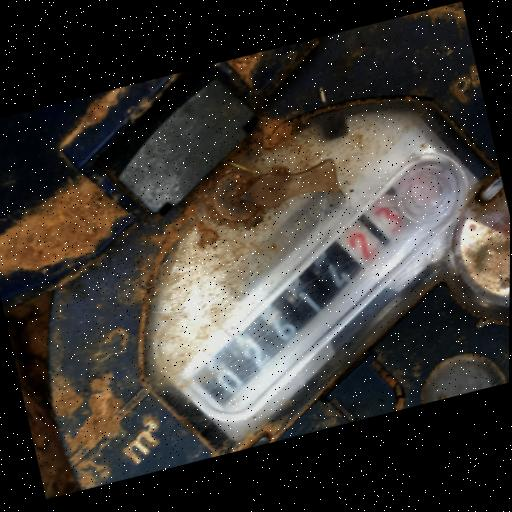0: (189, 343, 259, 413)
1: (276, 260, 343, 329)
2: (219, 313, 290, 385), (329, 211, 393, 279)
3: (354, 180, 426, 254)
4: (304, 235, 369, 302)
6: (250, 286, 317, 355)
border_water_meter_number: (137, 127, 511, 449)
